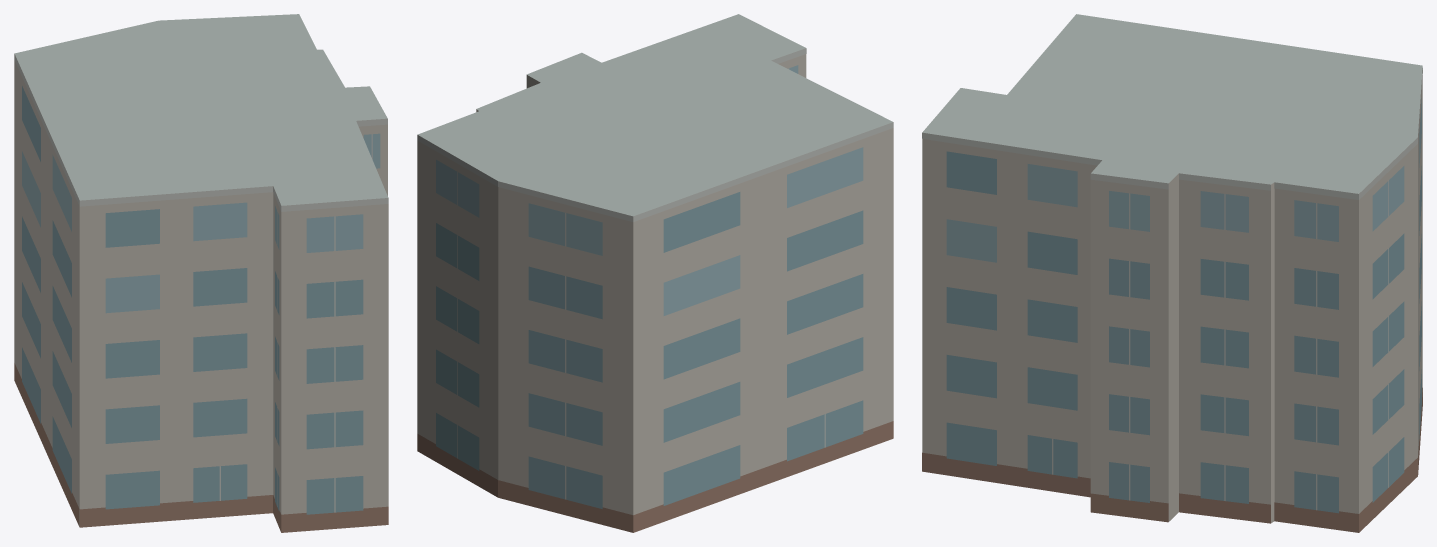
Rendered from survey-upis-32955980.glb.
3 views of the same model, side by side, from view 1: azimuth 30°, elevation 25°; view 2: azimuth 150°, elevation 25°; view 3: azimuth 270°, elevation 25° (orthographic). The views are drawn at different scales.
Parts seen in each view (by area): view 1: survey-upis-32955980.tmp; view 2: survey-upis-32955980.tmp; view 3: survey-upis-32955980.tmp.
Boxes of the visible parts, bbox=[...] form: survey-upis-32955980.tmp: bbox=[14, 14, 388, 532]; survey-upis-32955980.tmp: bbox=[417, 14, 893, 532]; survey-upis-32955980.tmp: bbox=[922, 14, 1422, 532].
Bounding box in the file's own units: 15.15 × 13.3 × 17.81.
